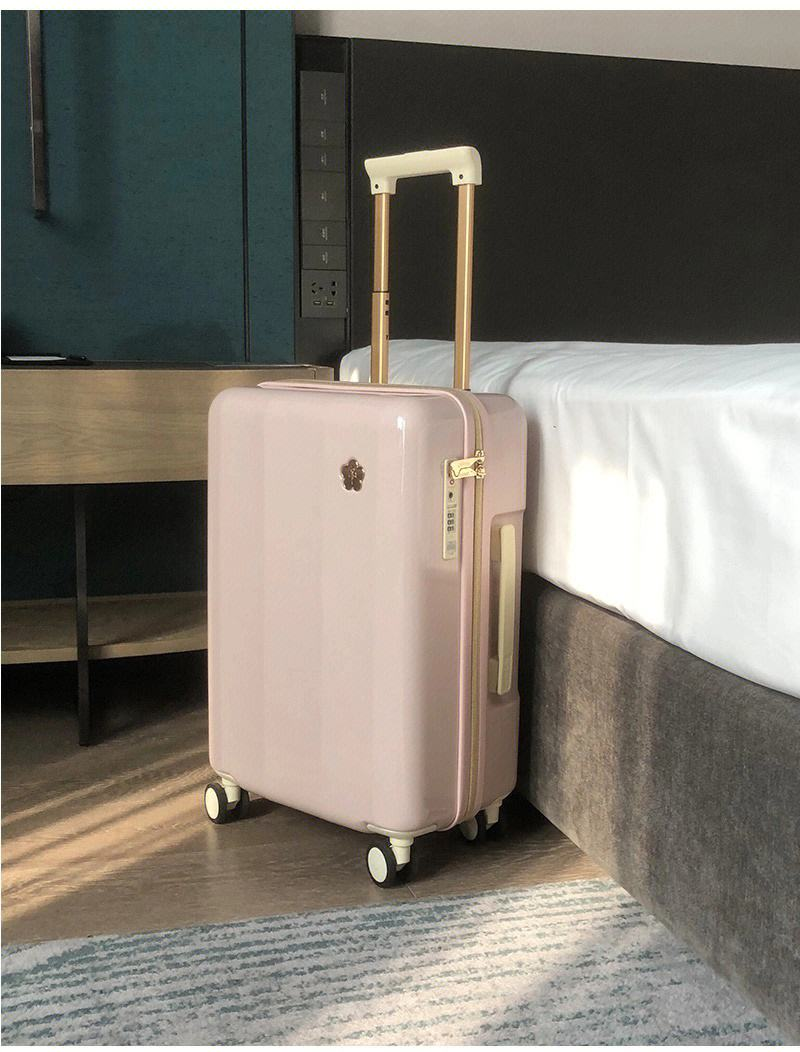box: (206, 379, 527, 830)
handle: (489, 522, 516, 696)
lock: (443, 454, 477, 561)
wheel: (366, 840, 417, 889), (204, 783, 250, 825), (454, 810, 487, 845)
